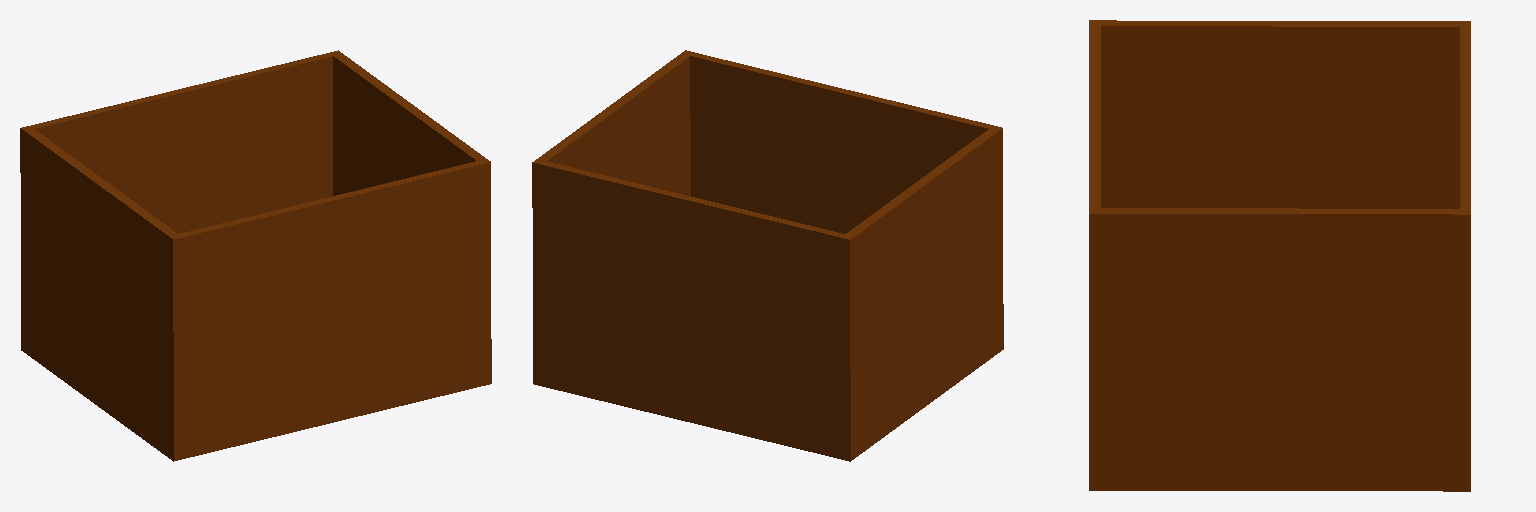
URDF robot description (apple):
<?xml version="1.0" encoding="utf-8"?>
<robot name="apple">
  <link name="base_link">
    <contact>
      <lateral_friction value="0.5"/>
      <rolling_friction value="0.0"/>
      <contact_cfm value="0.0"/>
      <contact_erp value="1.0"/>
    </contact>
    <inertial>
      <origin rpy="0 0 0" xyz="0 0 0"/>
      <mass value=".1"/>
      <inertia ixx="0" ixy="0" ixz="0" iyy="0" iyz="0" izz="0"/>
    </inertial>
    <visual>
      <origin rpy="1.57 0 0" xyz="0 0 0"/>
      <geometry>
        <mesh filename="models/meshes/box/box.SLDPRT.STL" scale="1.2 1 1"/>
      </geometry>
      <material name="hi">
        <color rgba="0.48 0.247 0.063 1"/>
      </material>
    </visual>
    <collision>
      <origin rpy="1.57 0 0" xyz="0 0 0"/>
      <geometry>
        <mesh filename="models/meshes/box/box.SLDPRT.STL" scale="1.2 1 1"/>
      </geometry>
    </collision>
  </link>
</robot>

--- What the picture shows (computed from the rendered views, not written in the file) ---
3 views of the same robot in one strip: view 1: azimuth 30°, elevation 25°; view 2: azimuth 150°, elevation 25°; view 3: azimuth 270°, elevation 25° (orthographic).
Model apple with 1 links and 0 joints (none), rooted at base_link, posed every joint at zero.
Links seen in each view (by area): view 1: base_link; view 2: base_link; view 3: base_link.
Boxes of the visible links, bbox=[...] form: base_link: bbox=[20, 50, 491, 461]; base_link: bbox=[532, 50, 1003, 461]; base_link: bbox=[1089, 20, 1470, 491].
Size in the robot's own frame: 0.6 by 0.5003 by 0.4004 metres.
1 mesh visuals loaded from 1 distinct referenced files (1 binary STL).